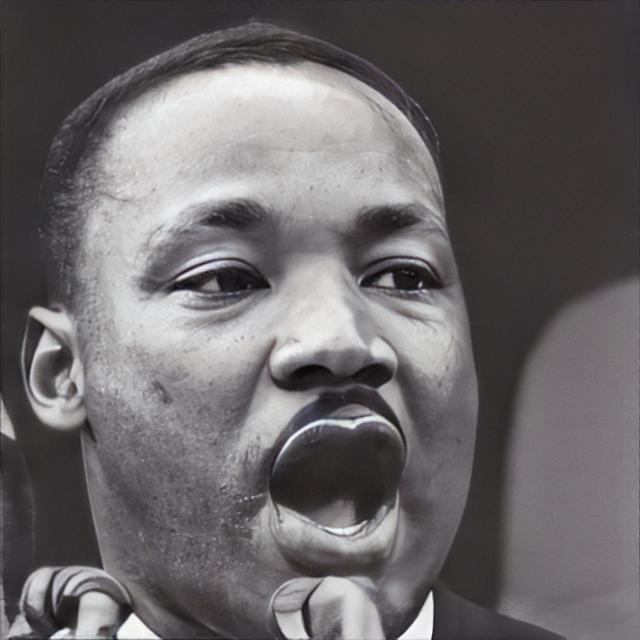anger: (76, 71, 477, 607)
